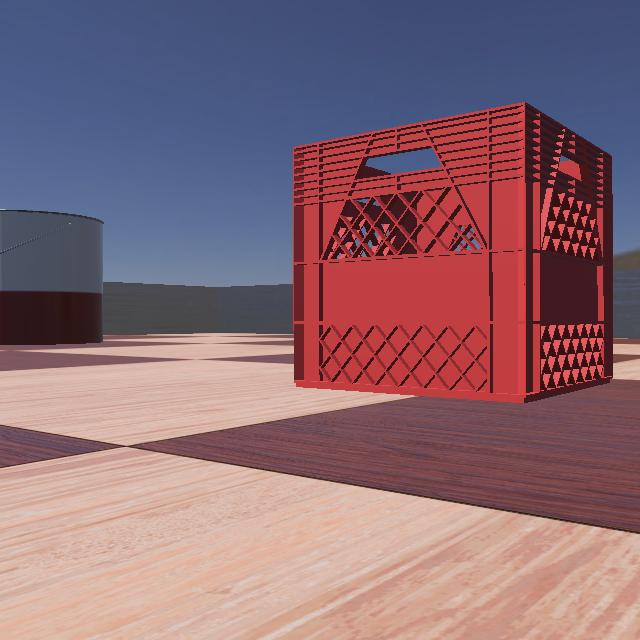cat: (0, 228, 44, 308), (0, 228, 44, 308), (0, 228, 44, 308)
paint-bucket: (0, 202, 121, 348), (0, 202, 121, 348)
plastic-crate: (285, 101, 639, 403)
